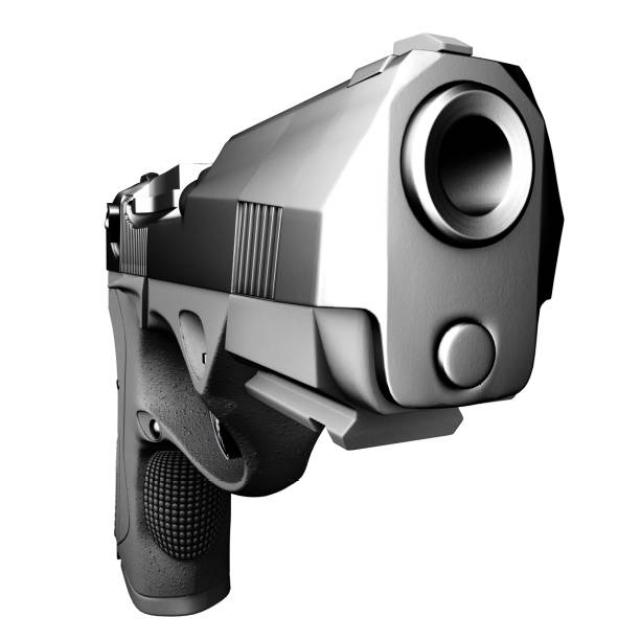pistol: (96, 31, 577, 621)
